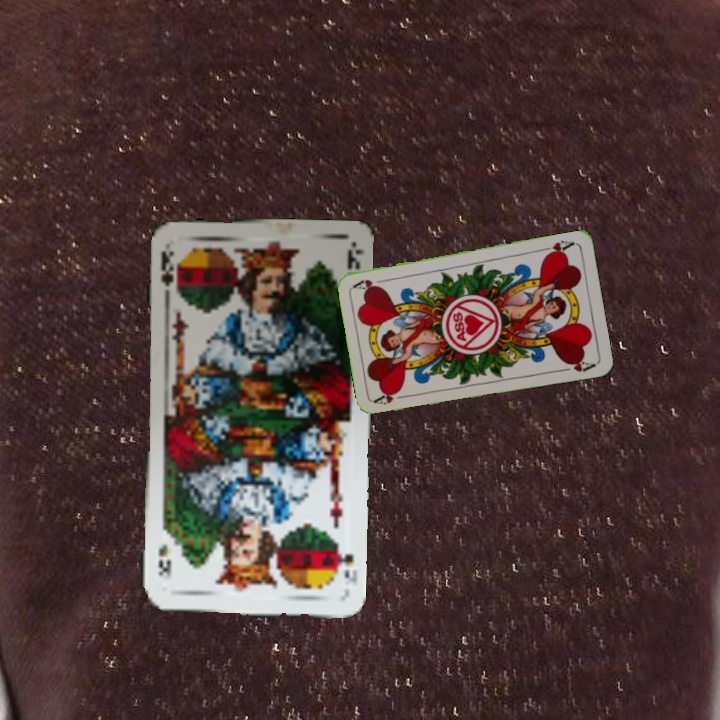HA: (537, 236, 577, 259), (371, 386, 411, 407)
SK: (331, 539, 358, 585), (157, 246, 181, 296)
